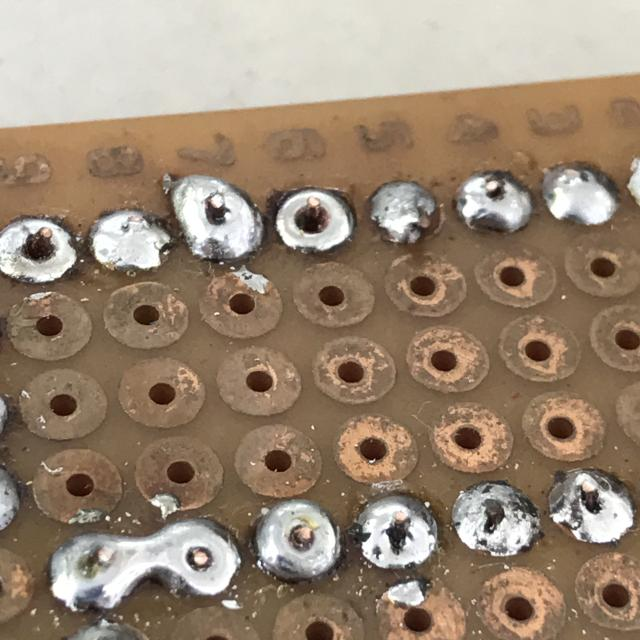bridge: (46, 519, 235, 612)
hole: (167, 162, 272, 278), (248, 494, 352, 591), (540, 458, 640, 553), (348, 486, 449, 579), (268, 172, 364, 264), (446, 474, 546, 562), (449, 160, 541, 241), (0, 207, 86, 291)
